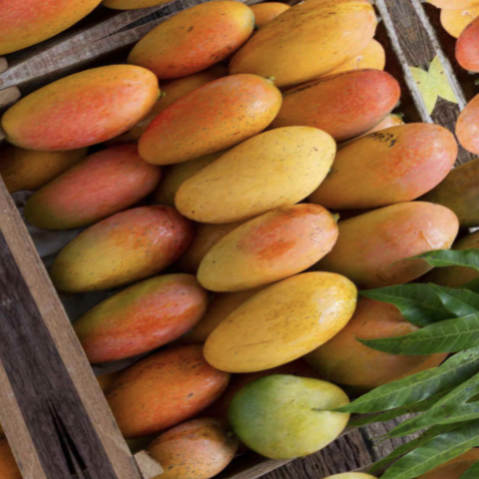mango: (145, 96, 362, 259), (181, 246, 386, 399), (38, 245, 239, 387), (0, 33, 189, 182), (117, 42, 300, 186), (292, 102, 472, 247), (190, 0, 394, 125), (190, 182, 365, 315), (21, 125, 188, 252), (208, 353, 368, 479), (104, 0, 270, 106)
